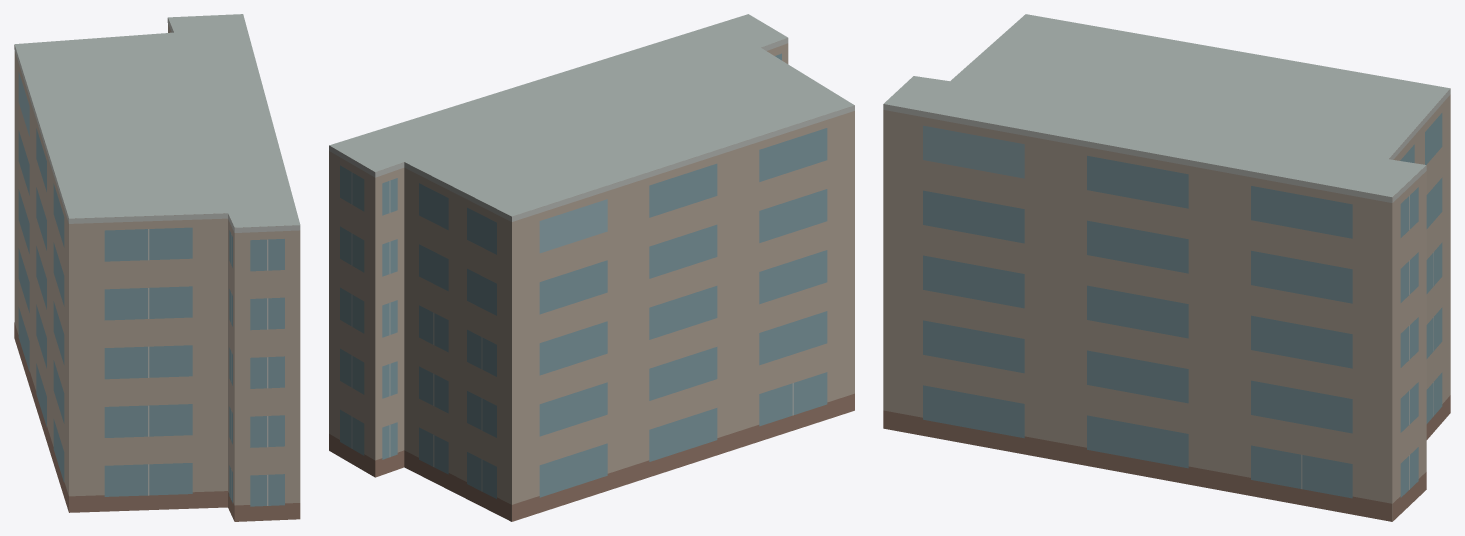
File: survey-upis-32566022.glb
The picture shows the model from 3 angles, left to right: view 1: azimuth 30°, elevation 25°; view 2: azimuth 150°, elevation 25°; view 3: azimuth 270°, elevation 25°; orthographic projection. The views are drawn at different scales.
Parts seen in each view (by area): view 1: survey-upis-32566022.tmp; view 2: survey-upis-32566022.tmp; view 3: survey-upis-32566022.tmp.
Boxes of the visible parts, bbox=[...] form: survey-upis-32566022.tmp: bbox=[14, 14, 300, 521]; survey-upis-32566022.tmp: bbox=[329, 14, 854, 521]; survey-upis-32566022.tmp: bbox=[883, 14, 1450, 521].
Bounding box in the file's own units: 16.36 × 13.5 × 21.39.
